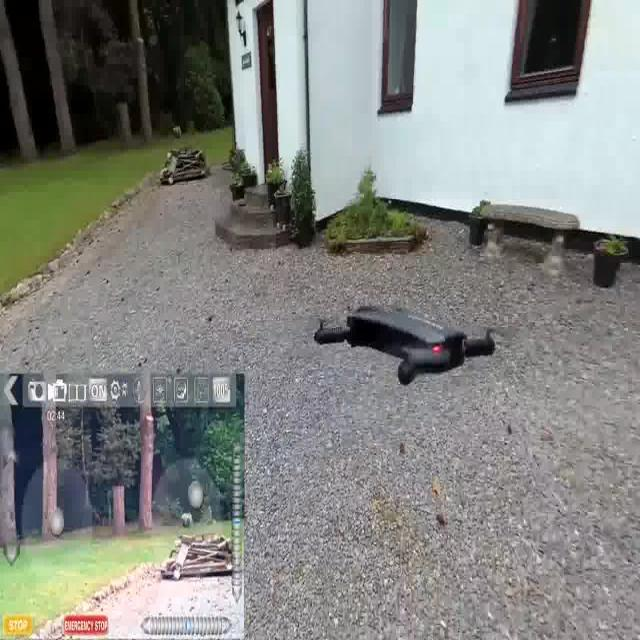drone: (309, 296, 497, 390)
